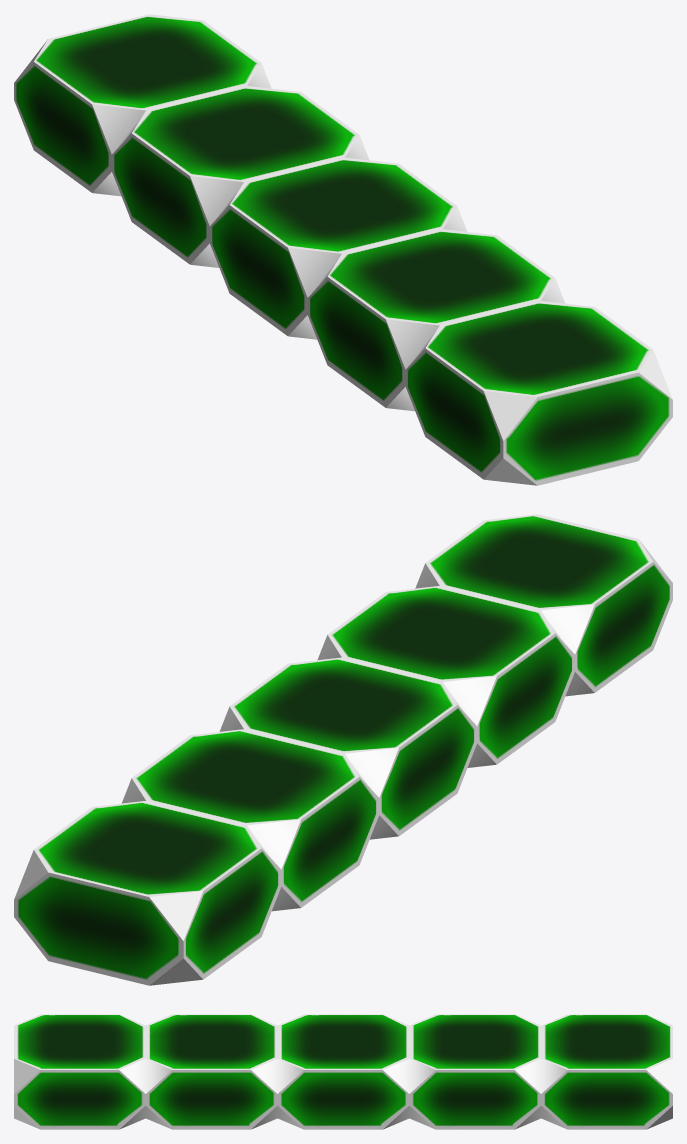
The model's file is MG-ChJ-CS-02BianKuai-5.FBX.
3 renders of one model, top to bottom at view 1: azimuth 30°, elevation 25°; view 2: azimuth 150°, elevation 25°; view 3: azimuth 270°, elevation 25°, orthographic. The views are drawn at different scales.
Visible parts, largest first — view 1: MG-ChJ-CS-02BianKuai-5; view 2: MG-ChJ-CS-02BianKuai-5; view 3: MG-ChJ-CS-02BianKuai-5.
Part boxes in pixels (bbox=[...]): MG-ChJ-CS-02BianKuai-5: bbox=[14, 14, 672, 485]; MG-ChJ-CS-02BianKuai-5: bbox=[14, 514, 672, 985]; MG-ChJ-CS-02BianKuai-5: bbox=[14, 1014, 672, 1129].
Bounding box in the file's own units: 39.37 × 19.69 × 197.
